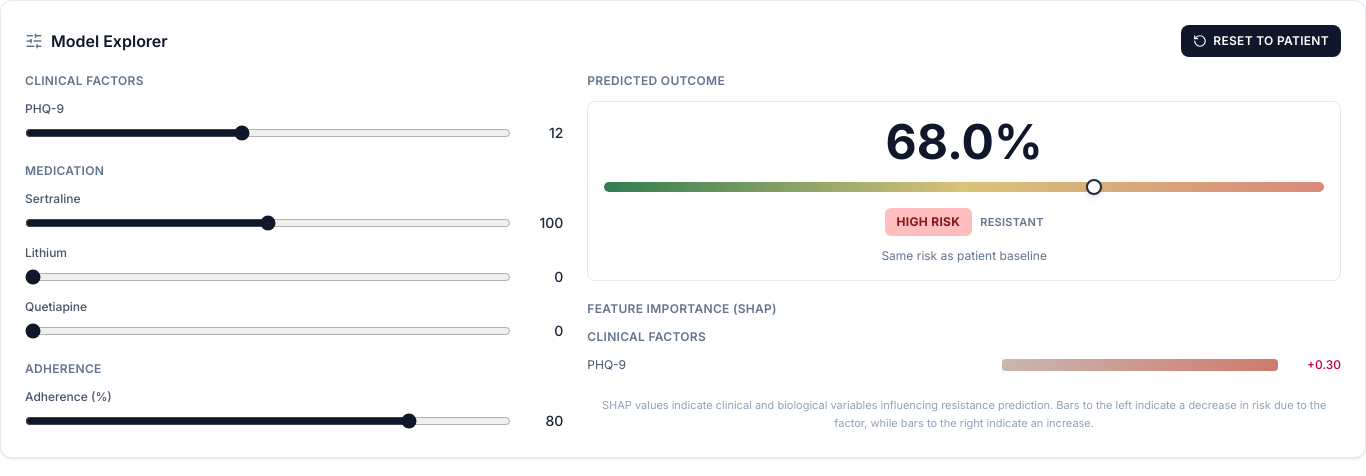
Test case: ModelExplorer › resets back to the patient baseline
This screenshot has width=1366, height=476.
Set the slider labelled "PHQ-9" to "5" at x=120, y=133, box 25,125 -> 511,141
Wait 500 ms
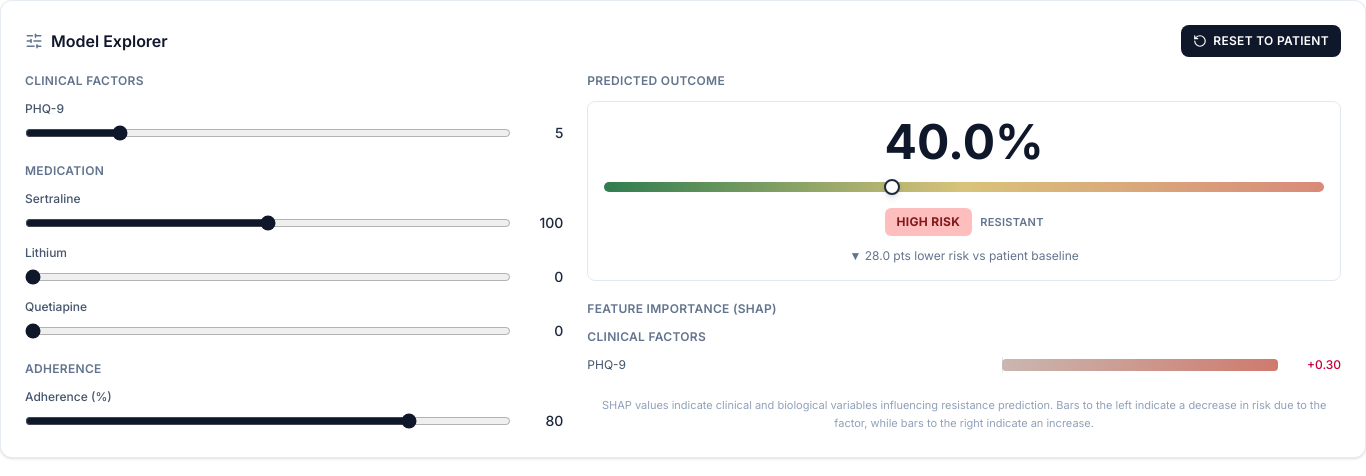
Check: the text "40.0%" is shown, box 885,112 -> 1044,171
Click the button "Reset to patient" at x=1261, y=41, box 1181,25 -> 1341,57
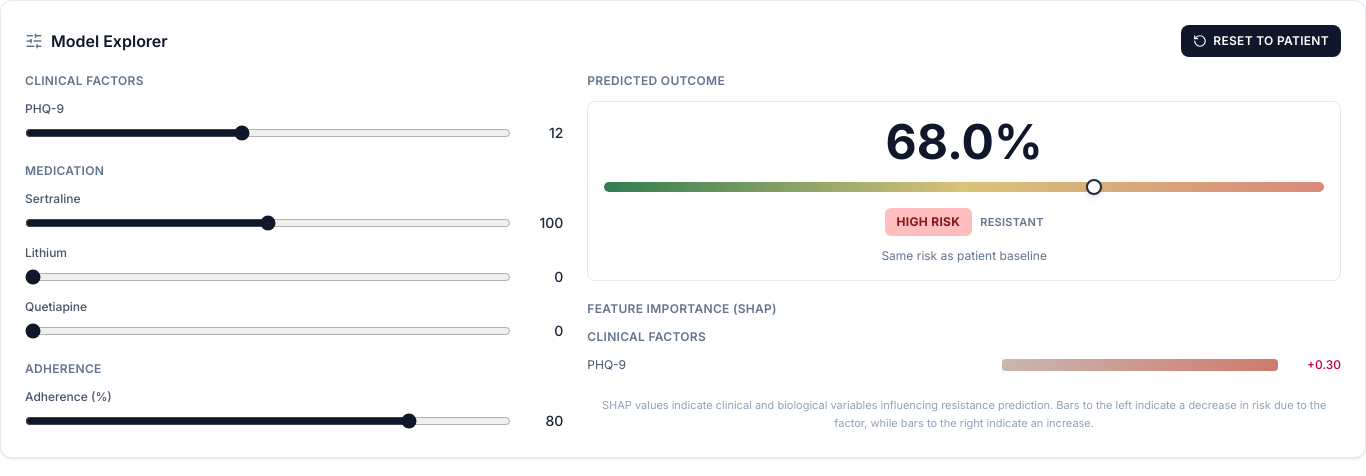
Check: the text "68.0%" is shown, box 886,112 -> 1043,171
Check: the text "Same risk as patient baseline" is shown, box 881,248 -> 1047,263
